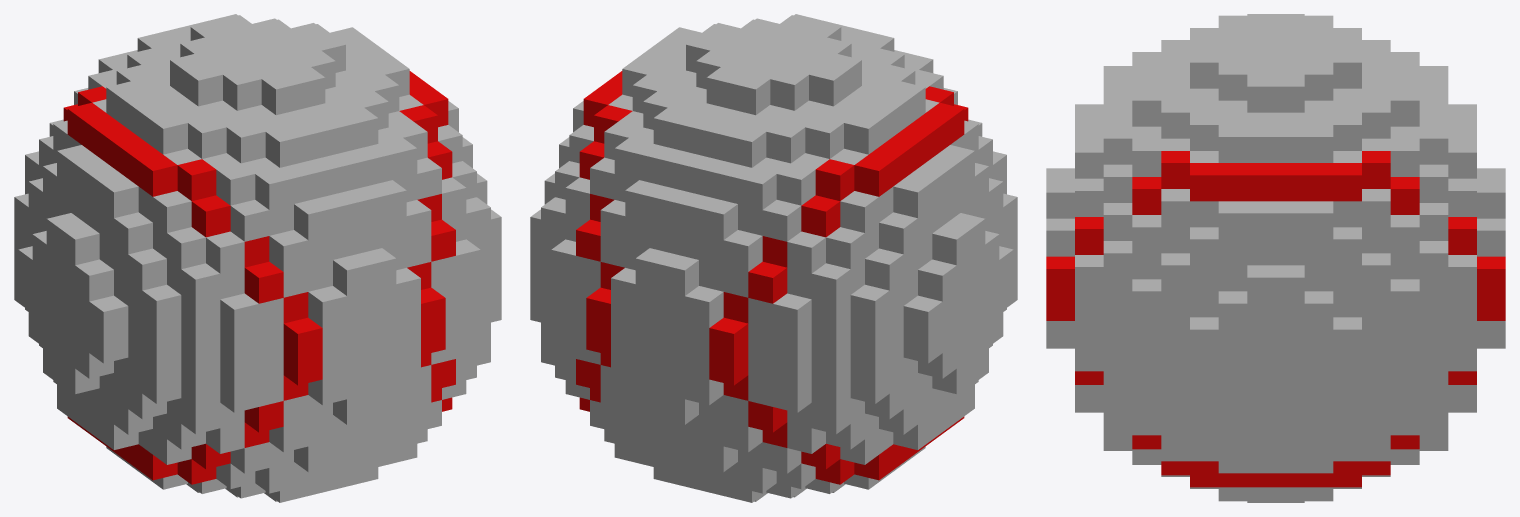
The model's file is ball.obj.
3 renders of one model, left to right at view 1: azimuth 30°, elevation 25°; view 2: azimuth 150°, elevation 25°; view 3: azimuth 270°, elevation 25°, orthographic.
Size of the model in its own units: 1.6 by 1.6 by 1.6.
Materials: 1 (1 with a texture image).
